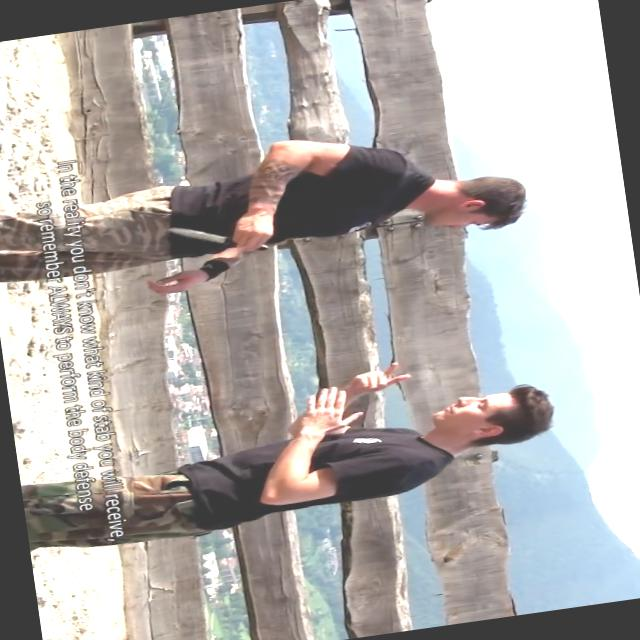knife: (160, 210, 274, 265)
